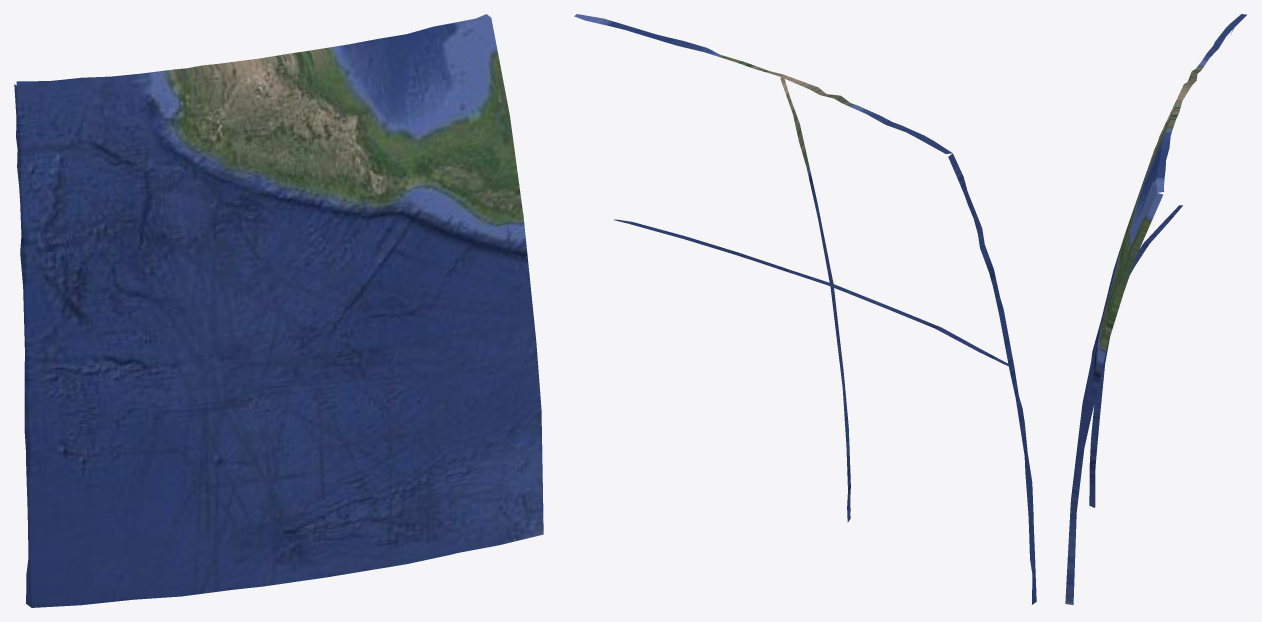
3 renders of one model, left to right at view 1: azimuth 30°, elevation 25°; view 2: azimuth 150°, elevation 25°; view 3: azimuth 270°, elevation 25°, orthographic. The views are drawn at different scales.
Size of the model in its own units: 2469378 by 2460862 by 975785.
Materials: 1 (1 with a texture image).
